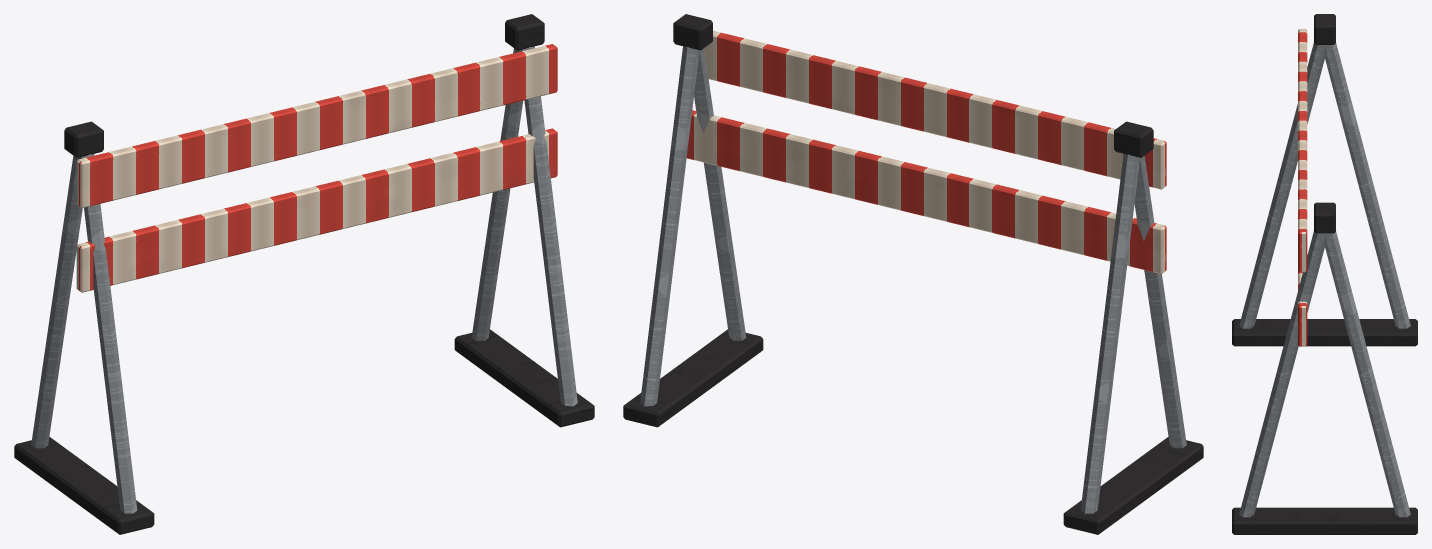
Rendered from barricade.glb.
3 views of the same model, side by side, from view 1: azimuth 30°, elevation 25°; view 2: azimuth 150°, elevation 25°; view 3: azimuth 270°, elevation 25° (orthographic). The views are drawn at different scales.
Visible parts, largest first — view 1: p; view 2: p; view 3: p.
Part boxes in pixels (x1,y1,x2,y2): p: [14, 14, 594, 534]; p: [623, 14, 1203, 534]; p: [1232, 14, 1417, 534].
Size of the model in its own units: 1.3 by 0.9547 by 0.5.
3 materials, 3 textured.
